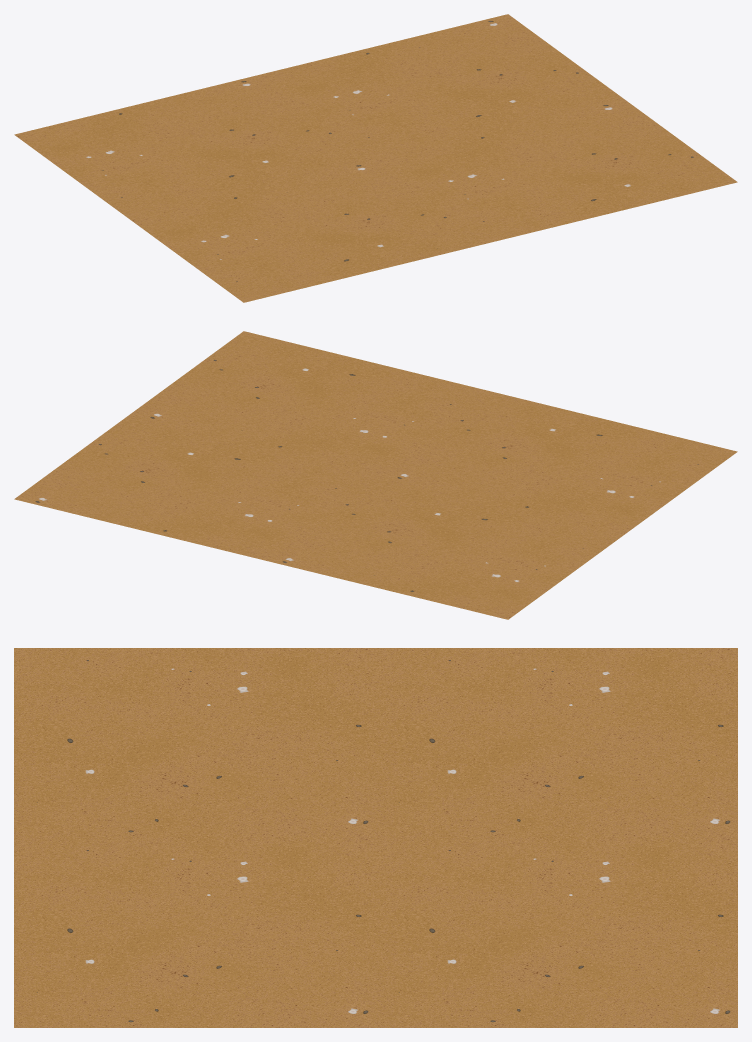
Rendered from sand.glb.
3 views of the same model, one above another, from view 1: azimuth 30°, elevation 25°; view 2: azimuth 150°, elevation 25°; view 3: azimuth 270°, elevation 25° (orthographic). The views are drawn at different scales.
Parts seen in each view (by area): view 1: Plane001; view 2: Plane001; view 3: Plane001.
Boxes of the visible parts, x1=… form: Plane001: x1=14, y1=14, x2=737, y2=302; Plane001: x1=14, y1=331, x2=737, y2=619; Plane001: x1=14, y1=648, x2=737, y2=1027.
Bounding box in the file's own units: 3356 × 0.0513 × 2703.
1 material, 1 textured.
